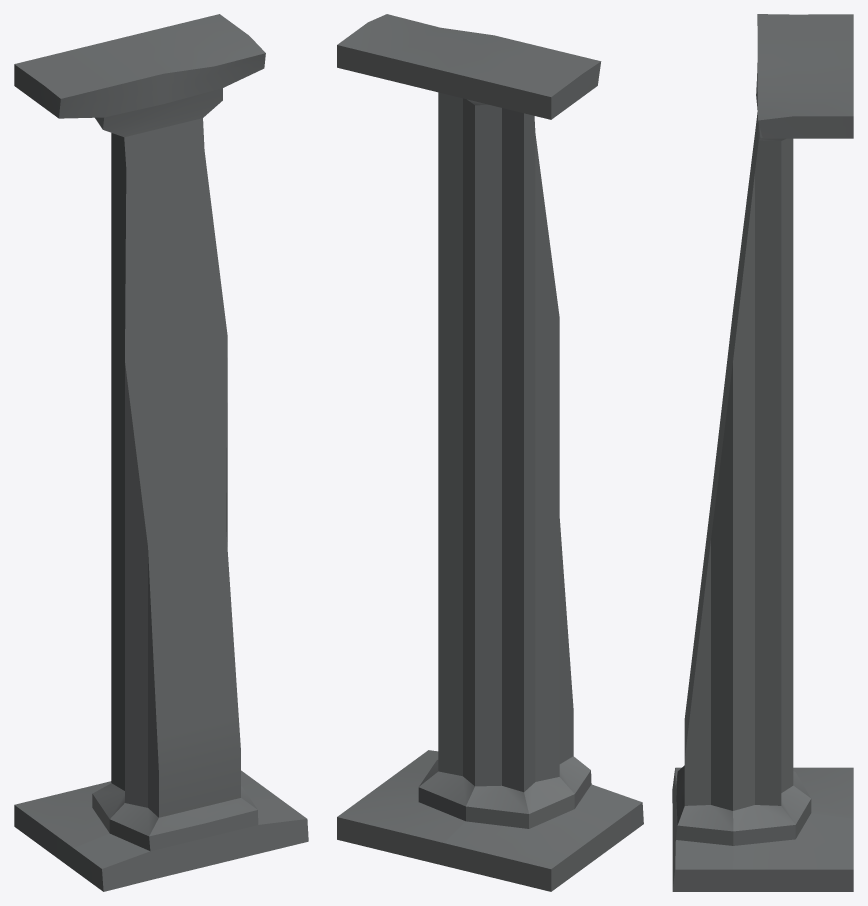
Rendered from PillarBroken2.fbx.
The picture shows the model from 3 angles, left to right: view 1: azimuth 30°, elevation 25°; view 2: azimuth 150°, elevation 25°; view 3: azimuth 270°, elevation 25°; orthographic projection. The views are drawn at different scales.
Parts seen in each view (by area): view 1: M. Pillar 4; view 2: M. Pillar 4; view 3: M. Pillar 4.
Part boxes in pixels (<box>): M. Pillar 4: <box>14,14,308,891</box>; M. Pillar 4: <box>337,14,643,891</box>; M. Pillar 4: <box>672,14,853,891</box>.
Size of the model in its own units: 359 by 1270 by 269.
